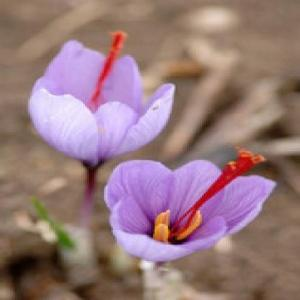Saffron: (29, 39, 176, 170), (108, 157, 282, 263)
